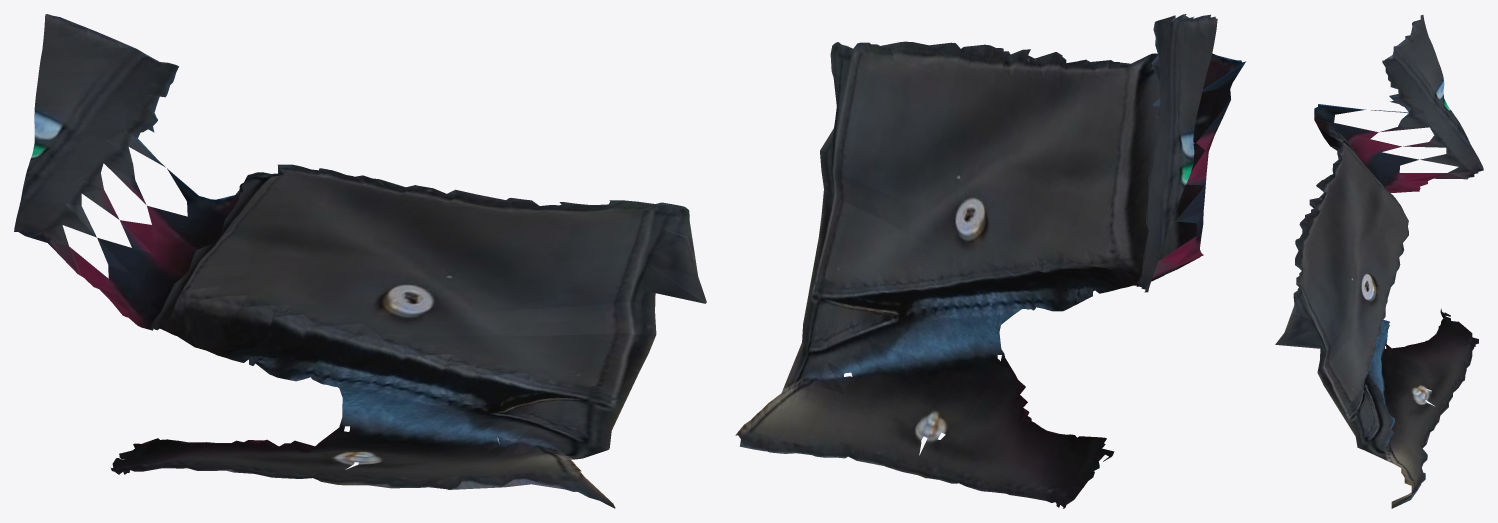
The model's file is observed-surface.glb.
3 renders of one model, left to right at view 1: azimuth 30°, elevation 25°; view 2: azimuth 150°, elevation 25°; view 3: azimuth 270°, elevation 25°, orthographic. The views are drawn at different scales.
Parts seen in each view (by area): view 1: geometry_0; view 2: geometry_0; view 3: geometry_0.
Part boxes in pixels (x1,y1,x2,y2): geometry_0: (14, 14, 706, 508); geometry_0: (735, 14, 1246, 508); geometry_0: (1275, 15, 1483, 508).
Bounding box in the file's own units: 0.5236 × 0.5593 × 0.3064.
1 material, 1 textured.
